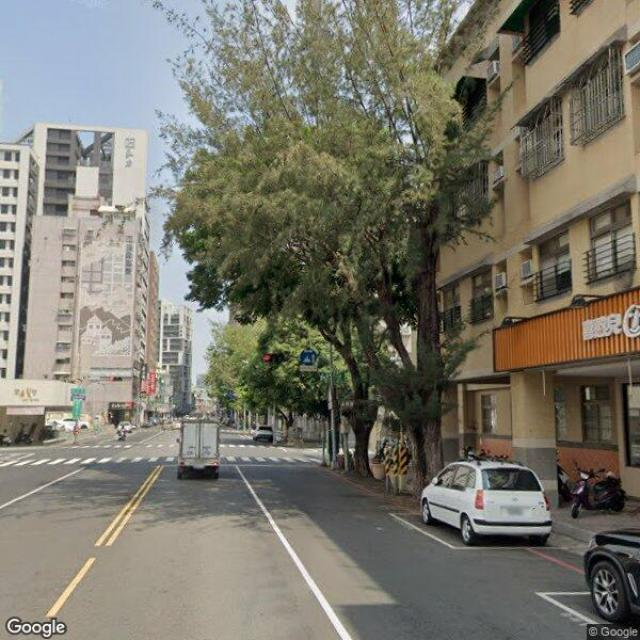Legalparking: (406, 442, 572, 569), (578, 512, 640, 640), (557, 464, 640, 524), (253, 418, 290, 460)
illegalparking: (174, 409, 233, 499)
